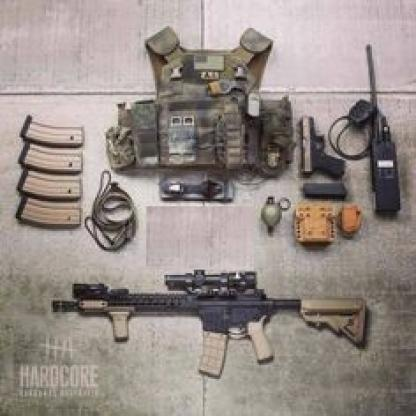Grenade: (262, 194, 292, 234)
Gun: (52, 267, 367, 381)
Pistol: (298, 113, 347, 180)
